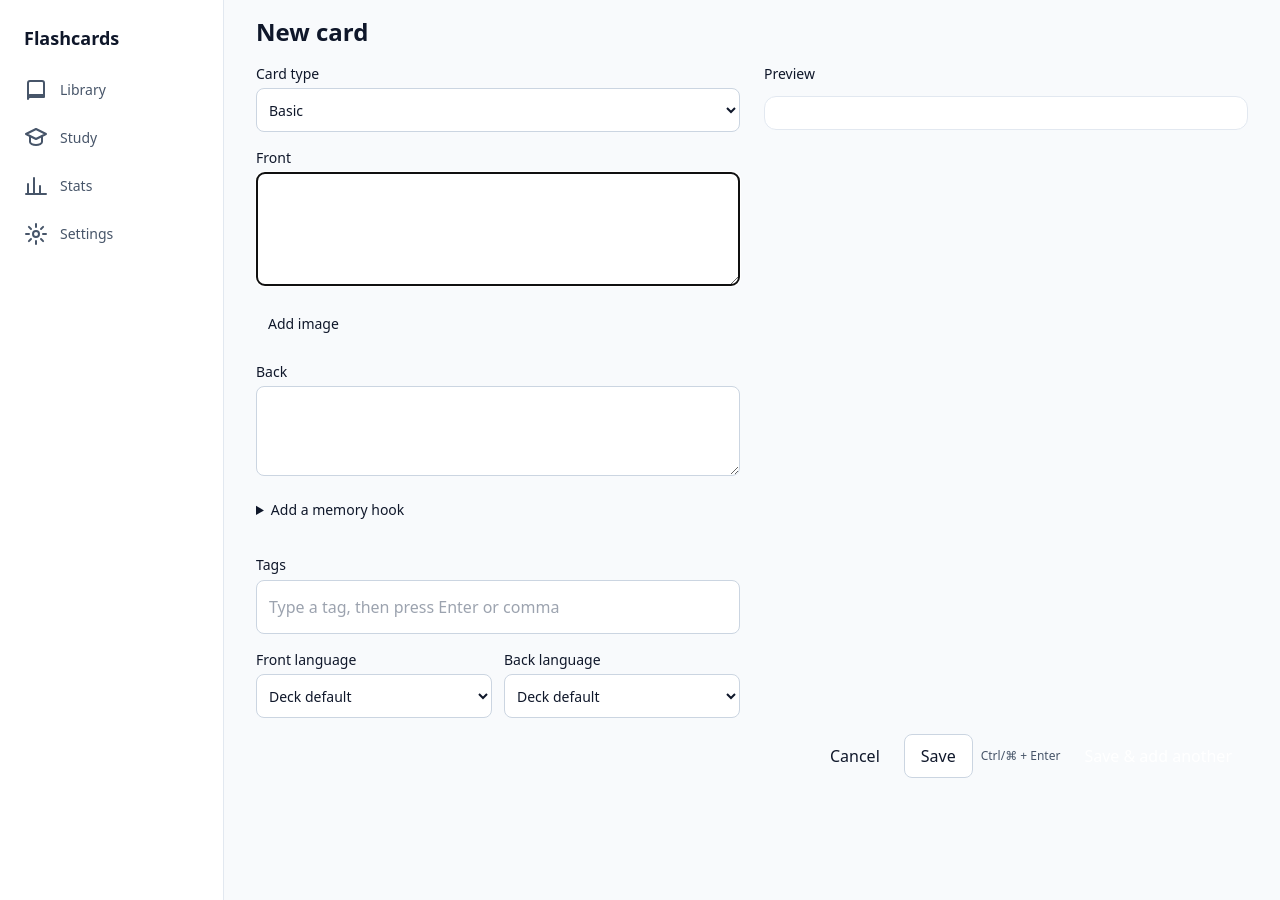
card editor › requires a front
This screenshot has width=1280, height=900.
Click the button "Save".
click(938, 756)  # box top-left (904, 734), bottom-right (973, 778)
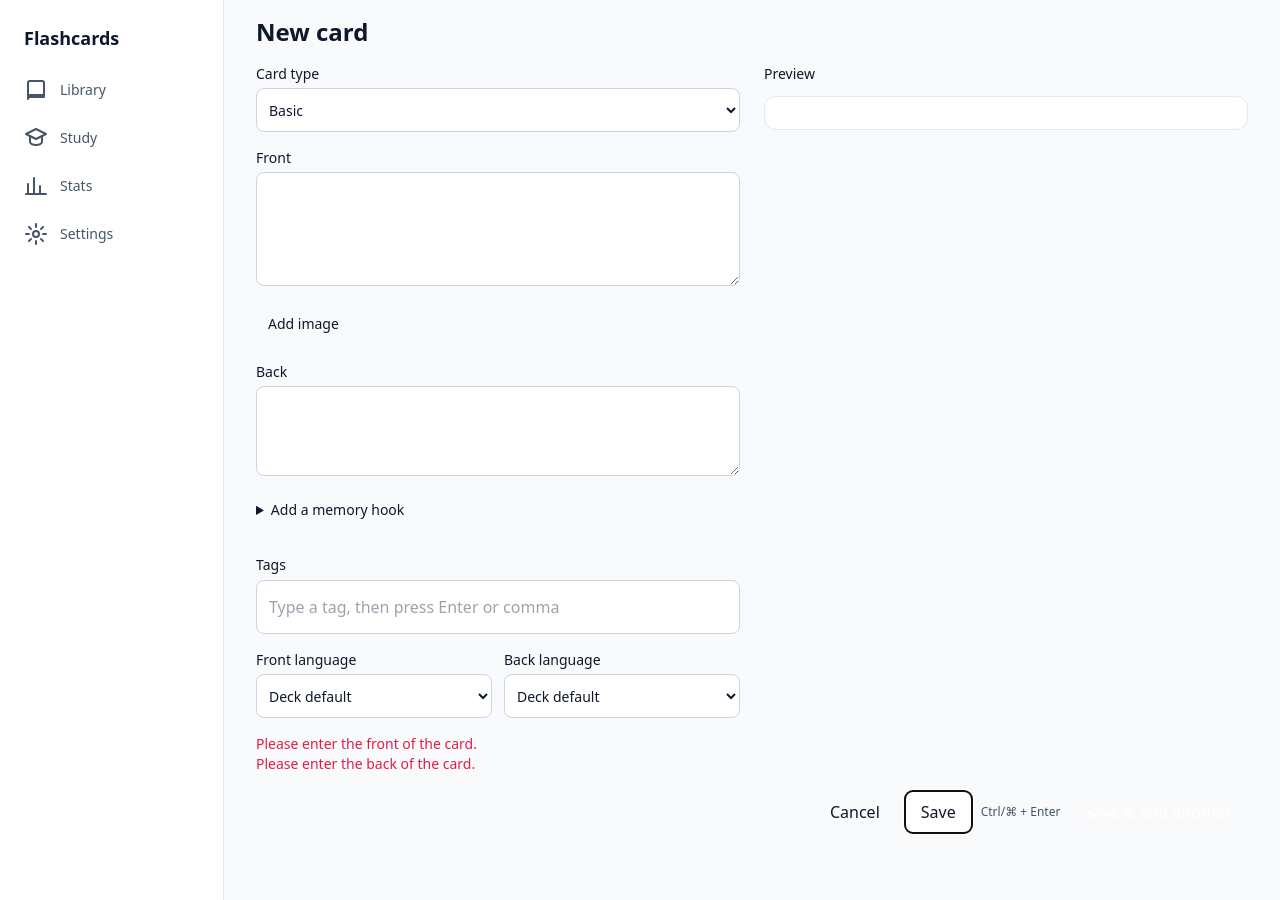
Check: the messages read "Please enter the front of the card.", "Please enter the back of the card.", in this order, box top-left (256, 734), bottom-right (477, 753); top-left (256, 754), bottom-right (475, 773)
